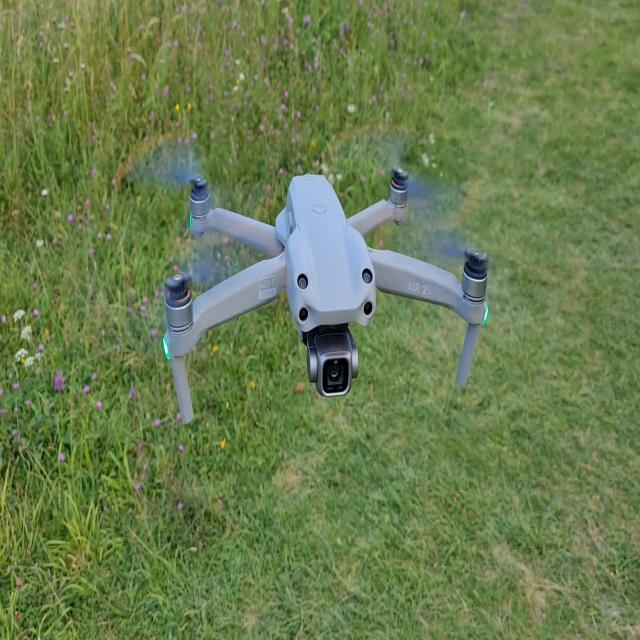drone: (160, 163, 490, 425)
